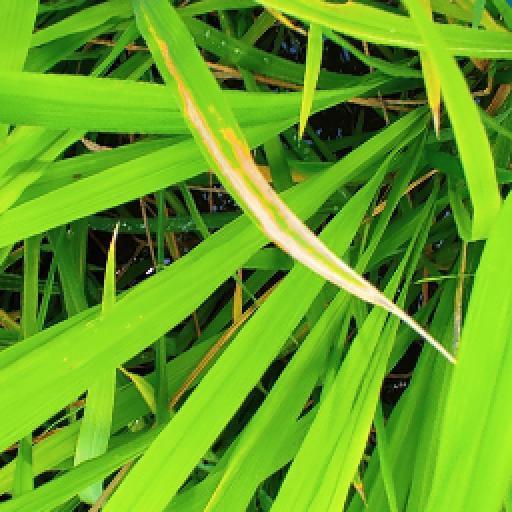Sheath Blight: (138, 24, 458, 364)
